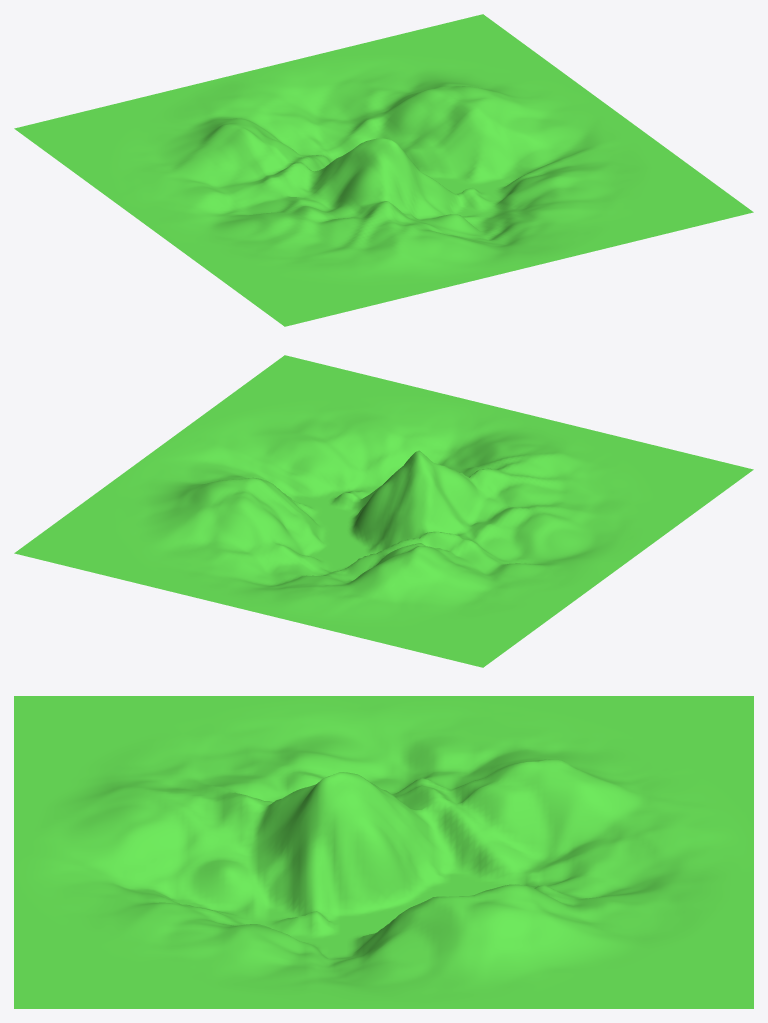
Rendered from lake.fbx.
The picture shows the model from 3 angles, top to bottom: view 1: azimuth 30°, elevation 25°; view 2: azimuth 150°, elevation 25°; view 3: azimuth 270°, elevation 25°; orthographic projection. The views are drawn at different scales.
Visible parts, largest first — view 1: Landscape; view 2: Landscape; view 3: Landscape.
Boxes of the visible parts, x1,y1,x2,y2 form: Landscape: [14, 14, 753, 326]; Landscape: [14, 355, 753, 667]; Landscape: [14, 696, 753, 1008].
Bounding box in the file's own units: 20000 × 2997 × 20000.
